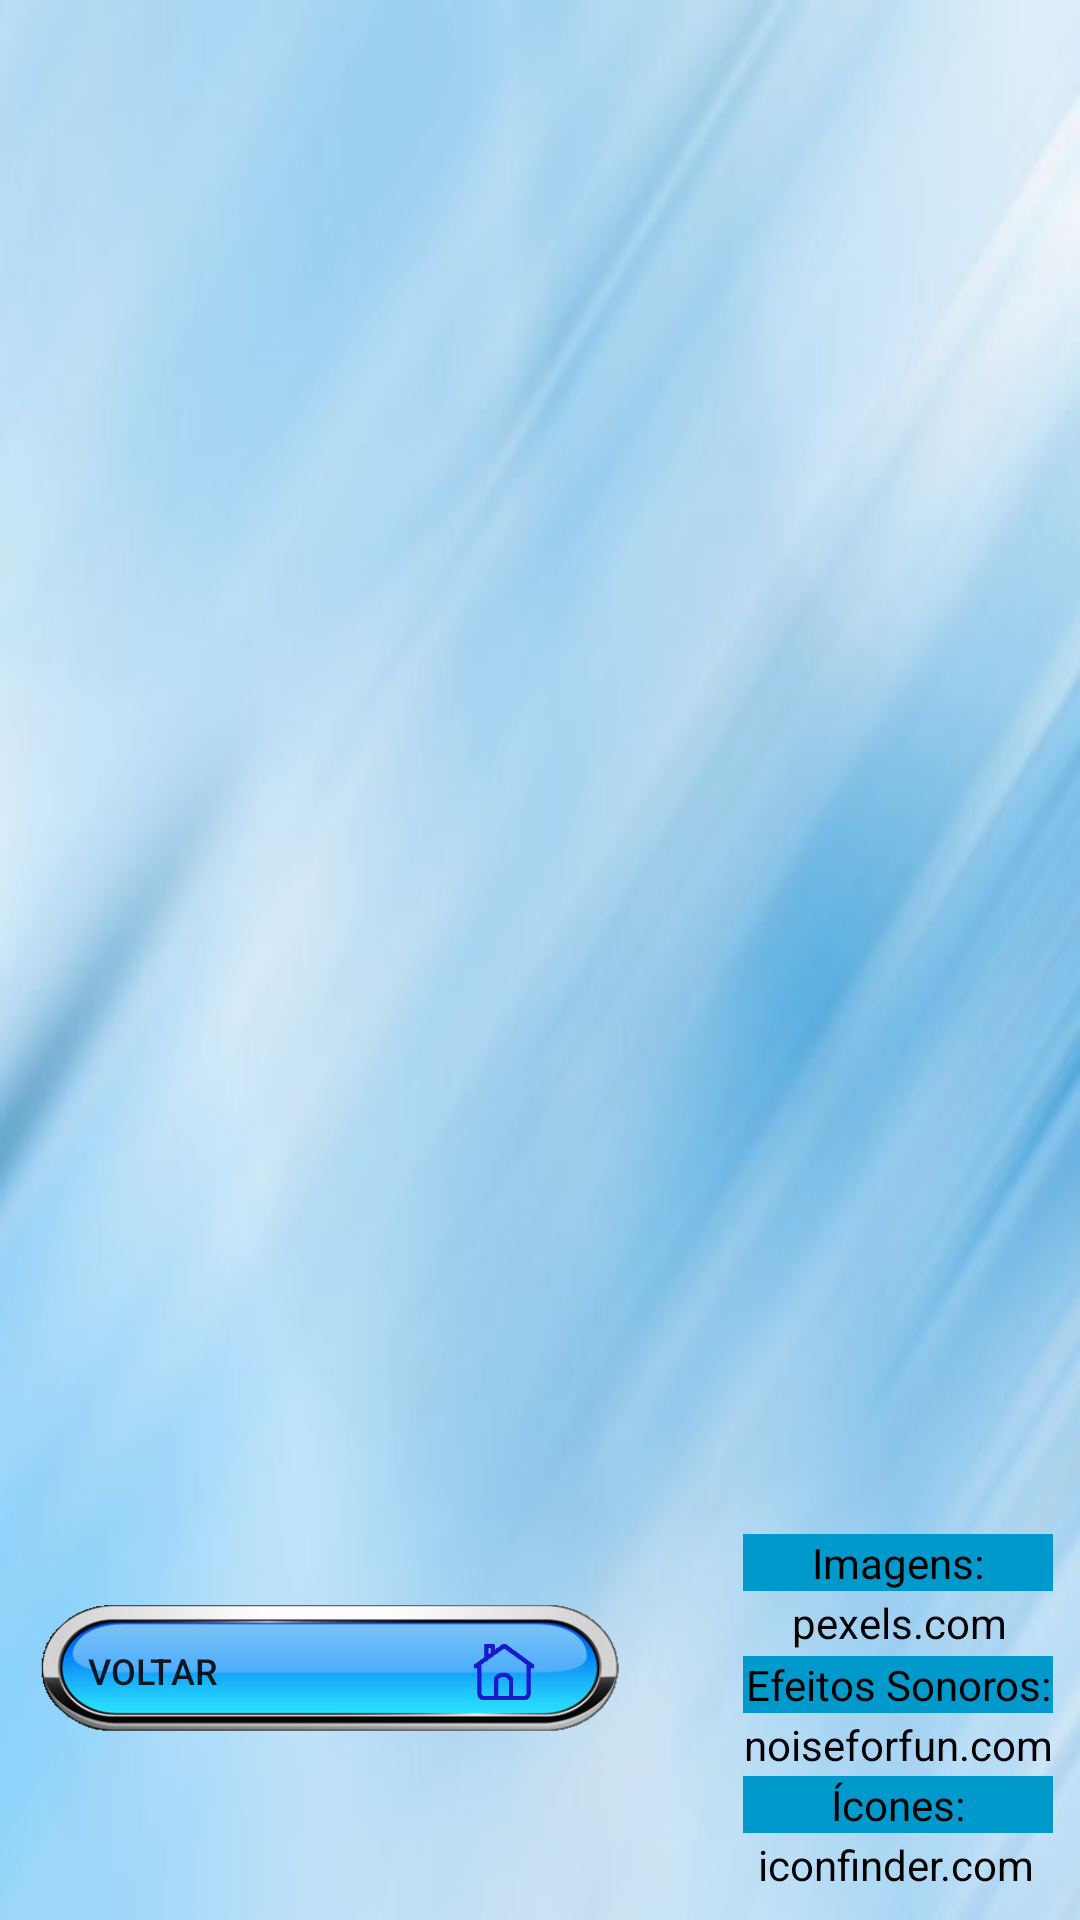

Icons on this 1080×1920 Android screen, each with the point to tap as (x=x, y=y):
homepress: (x=504, y=1672)
